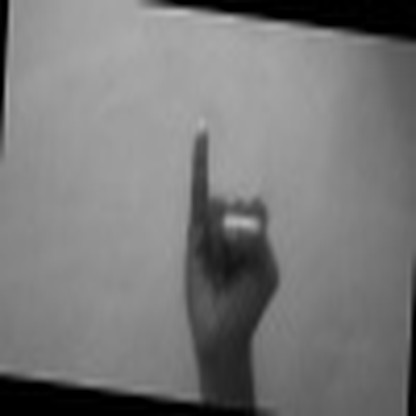i: (169, 116, 294, 337)
